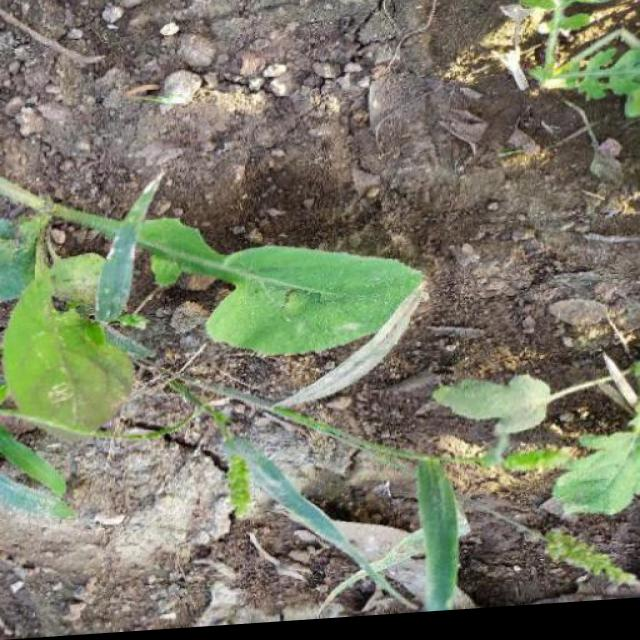weed: (29, 138, 438, 449)
